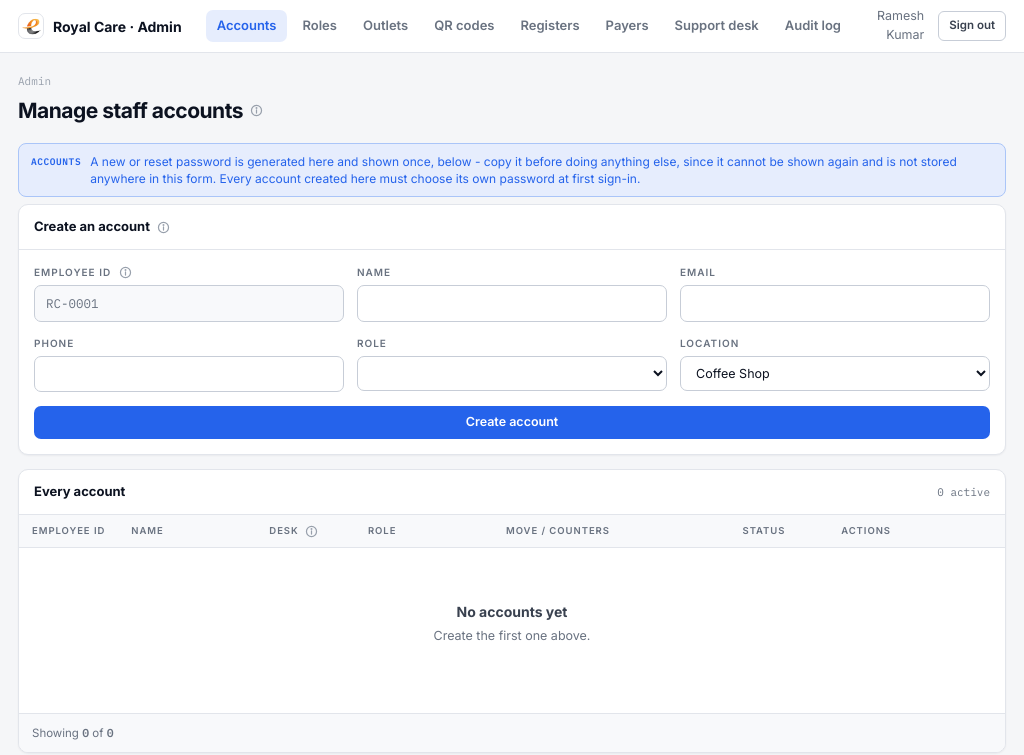
Test case: the QR codes tab › sits after Outlets, and lists the first open outlet's codes - active first, the others' kept off
Step 1. Click the tab "QR codes" → coordinates (464, 26), box [423, 10, 505, 42]
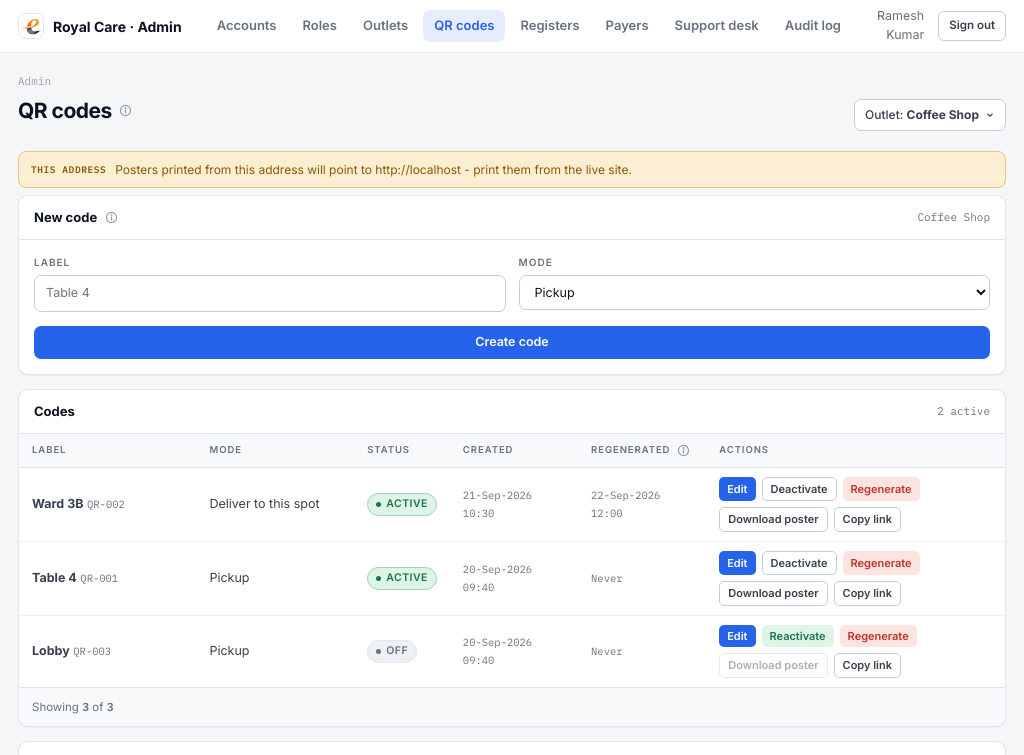
Now the row that starts with "Ward 3B" is shown, box [32, 496, 84, 511]
Now the row that starts with "Ward 3B" shows "Deliver to this spot", box [210, 496, 320, 511]
Now the row that starts with "Ward 3B" shows "22-Sep-2026 12:00", box [591, 488, 660, 520]
